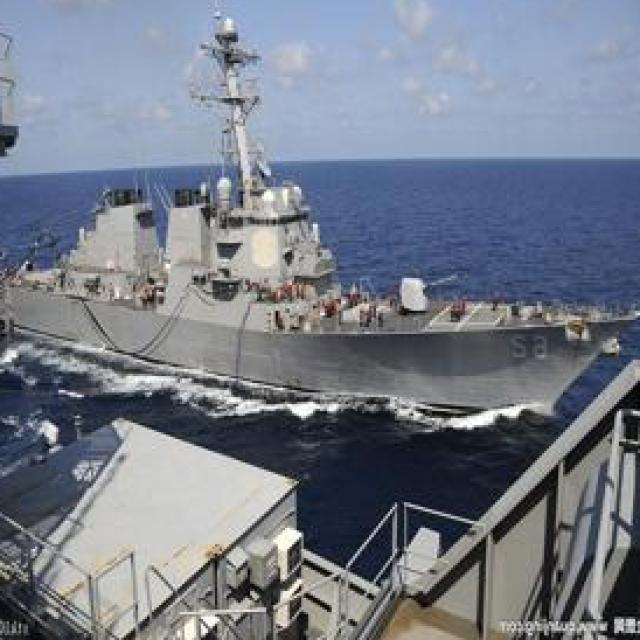navalvessels: (0, 0, 633, 399)
